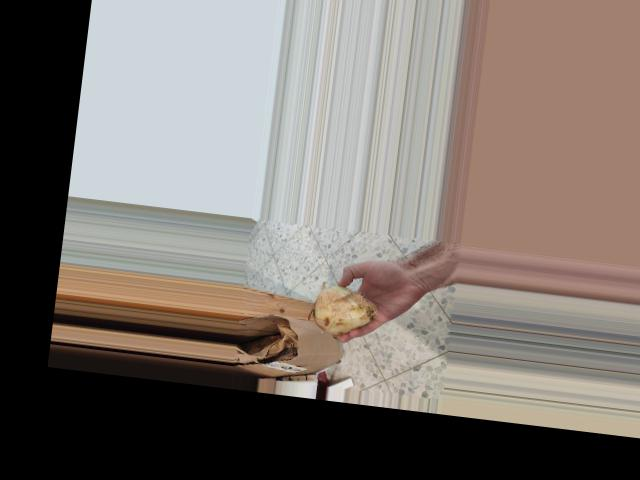onion: (305, 281, 376, 342)
